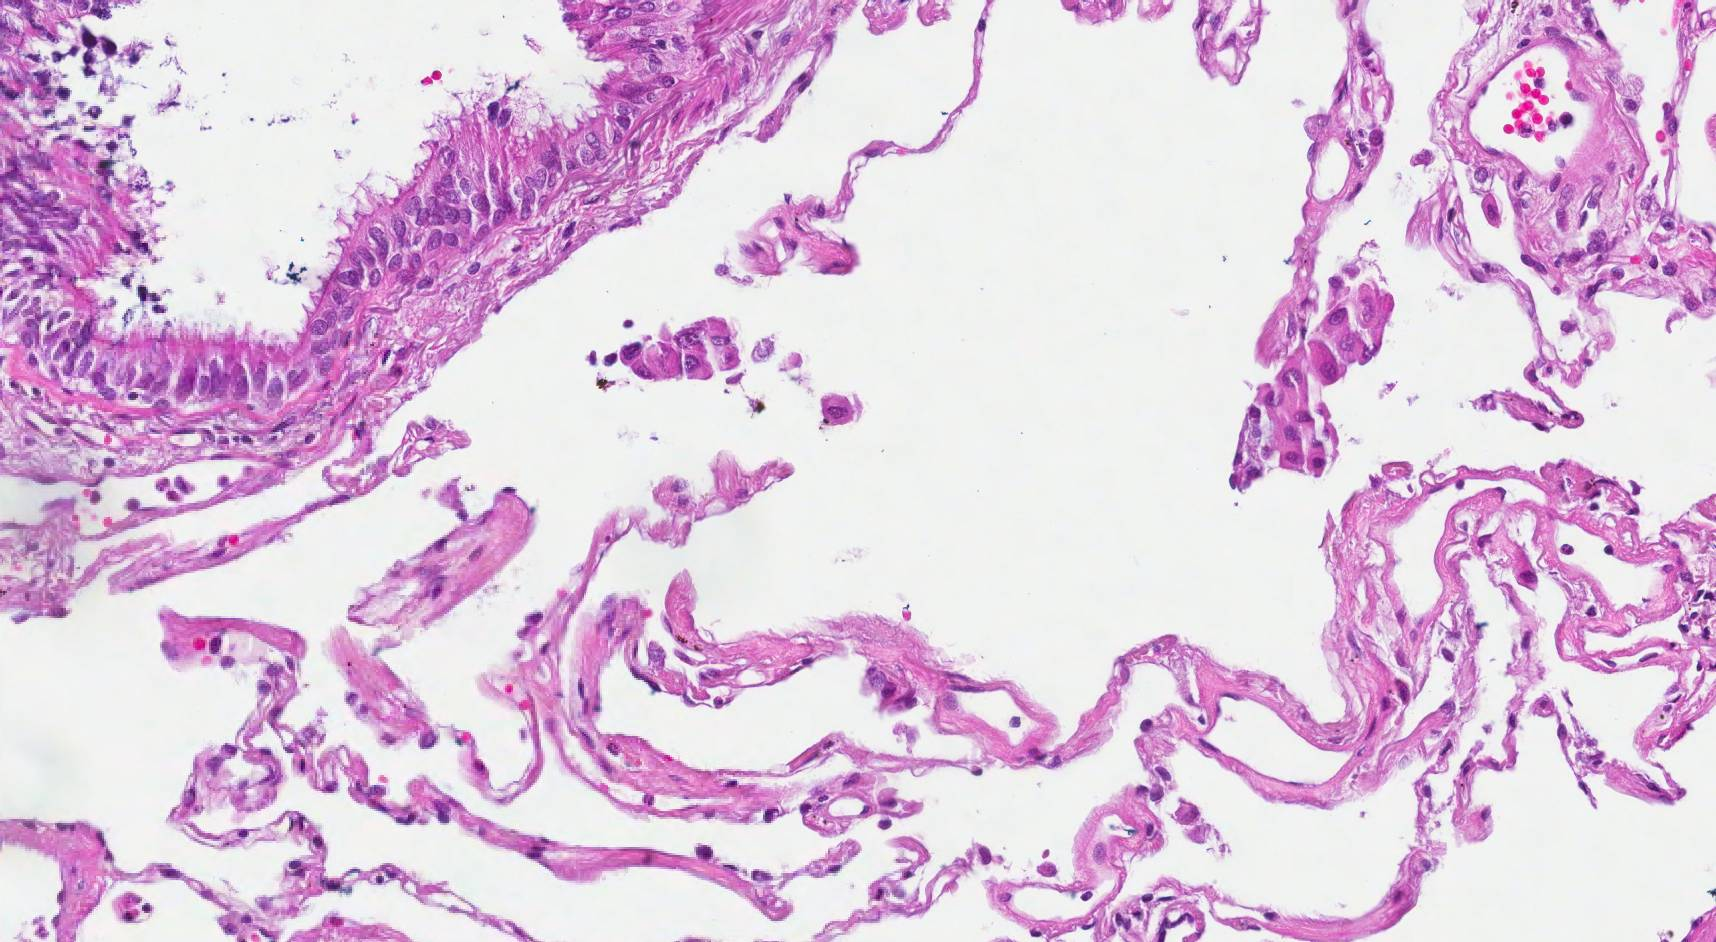stas: (1254, 267, 1393, 479), (618, 317, 742, 384)
